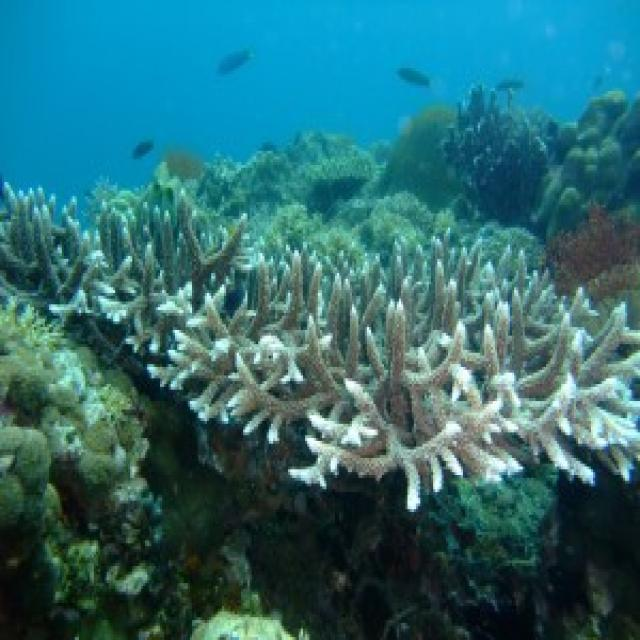Bleached: (149, 284, 640, 516), (66, 252, 206, 335), (54, 351, 107, 456), (196, 595, 312, 640)
Healthy: (335, 499, 640, 640), (1, 358, 151, 505), (448, 85, 547, 226), (550, 94, 640, 215), (532, 214, 640, 288), (268, 197, 444, 239), (382, 103, 447, 213), (1, 299, 62, 356), (309, 149, 378, 187)
